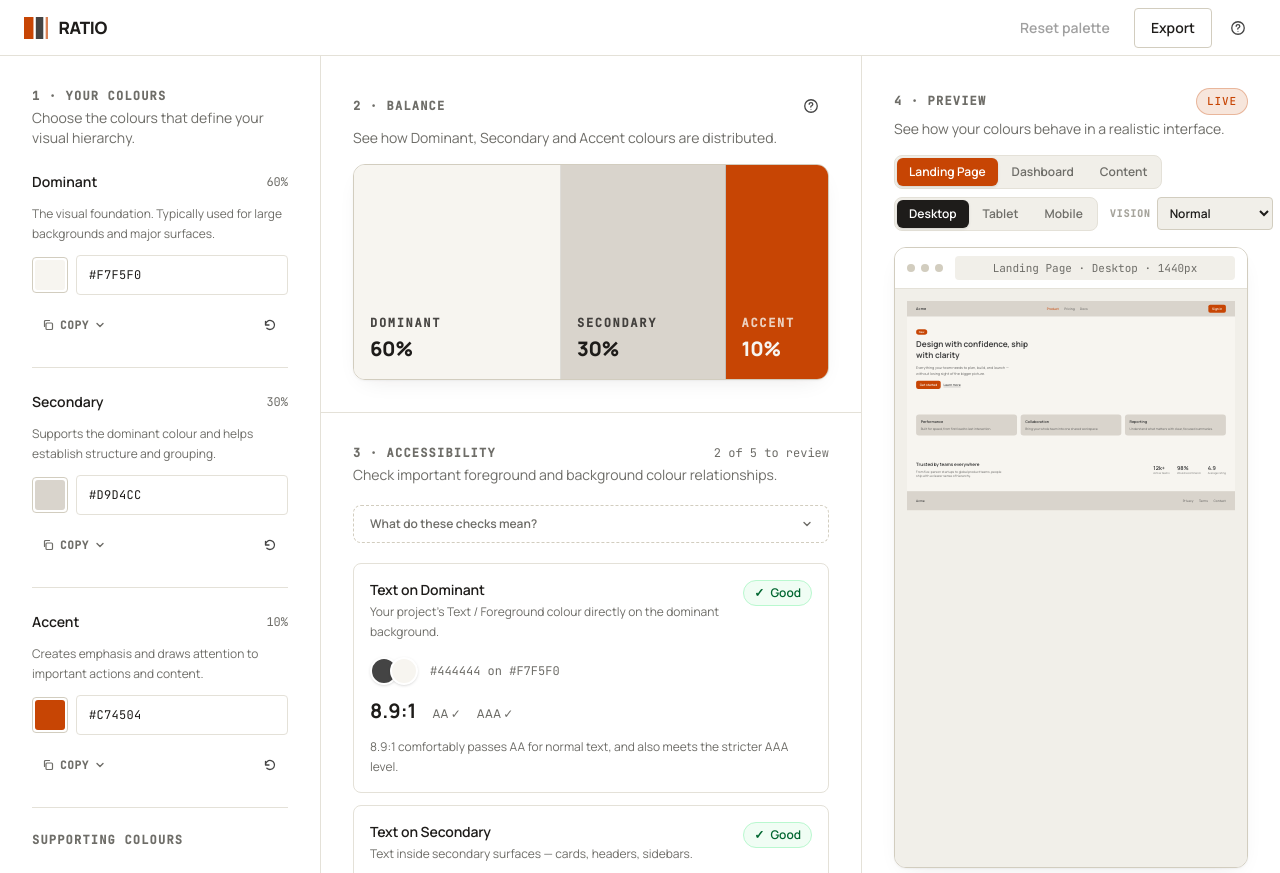
Test: WorkspaceShell › updates the ratio visualisation immediately when a colour changes via the hex input
This screenshot has width=1280, height=873.
Replace the text in the 3rd field named "Accent hex value" with "#00A86B" at coordinates (182, 715), box [76,695,288,735]
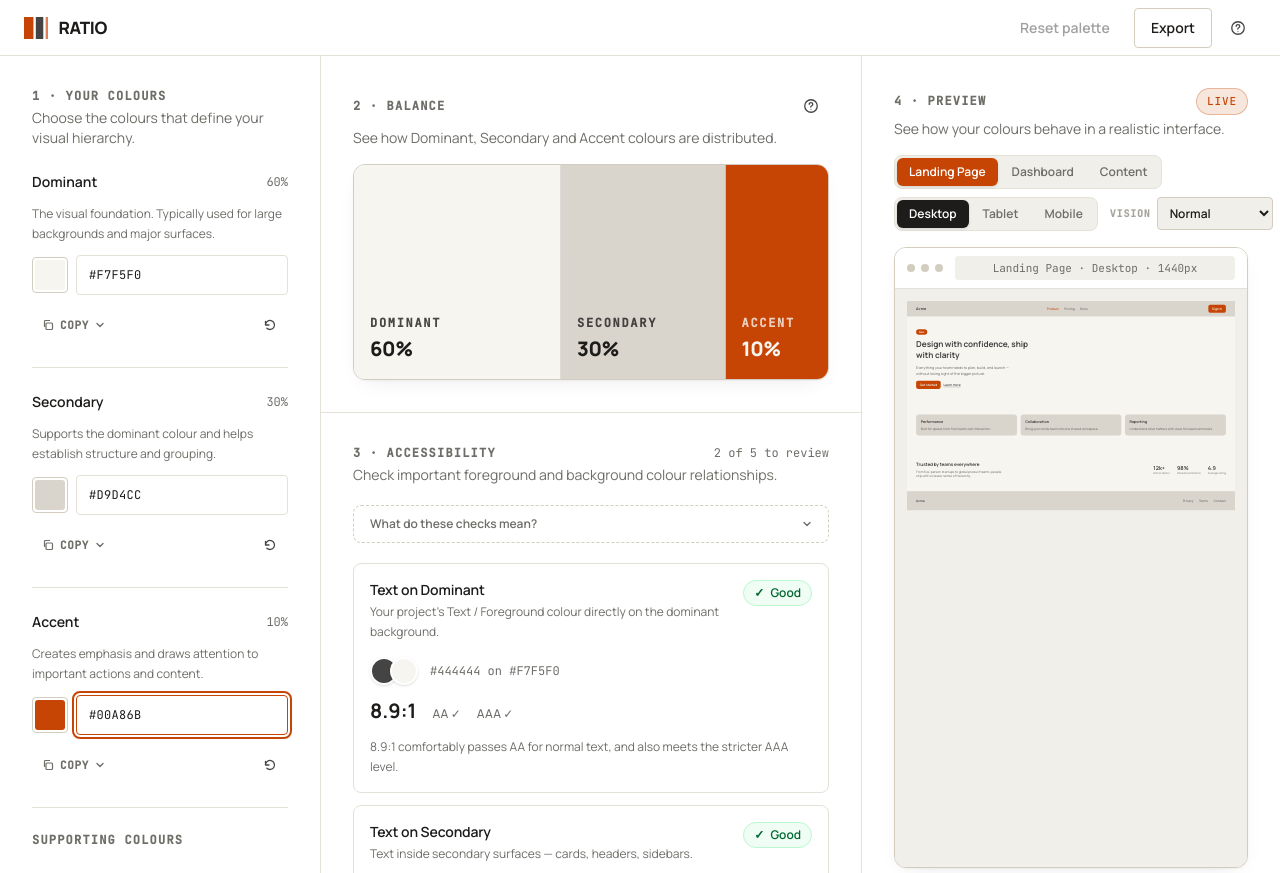
Press Tab
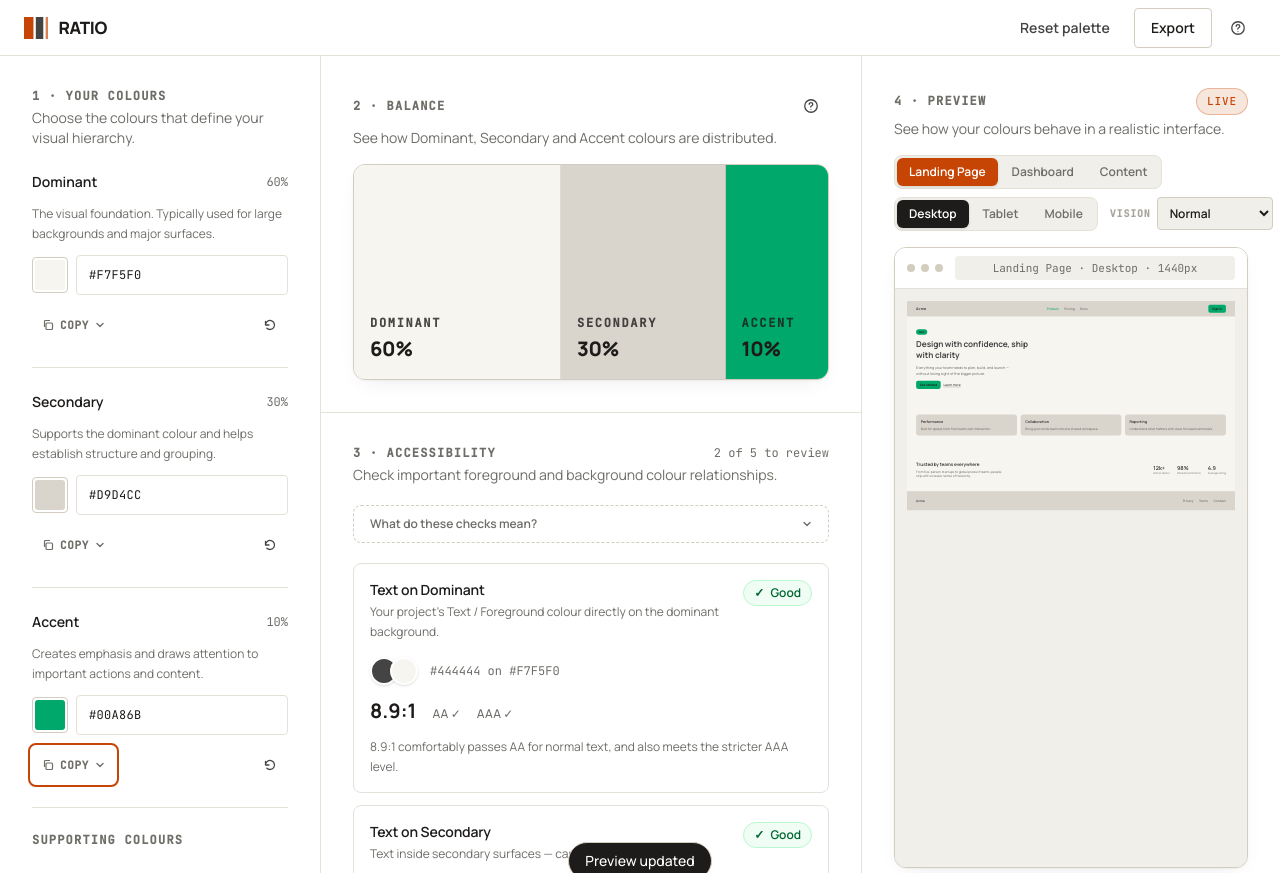
expect the picture named "#00A86B" is shown: met, box [353,164,829,380]
